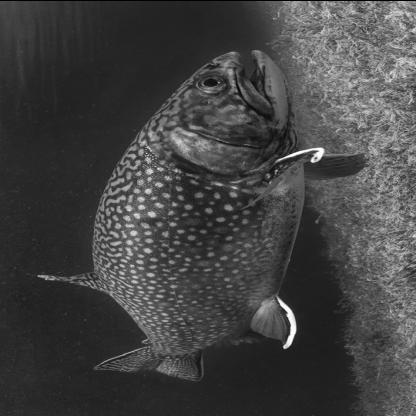fish: (40, 49, 369, 382)
